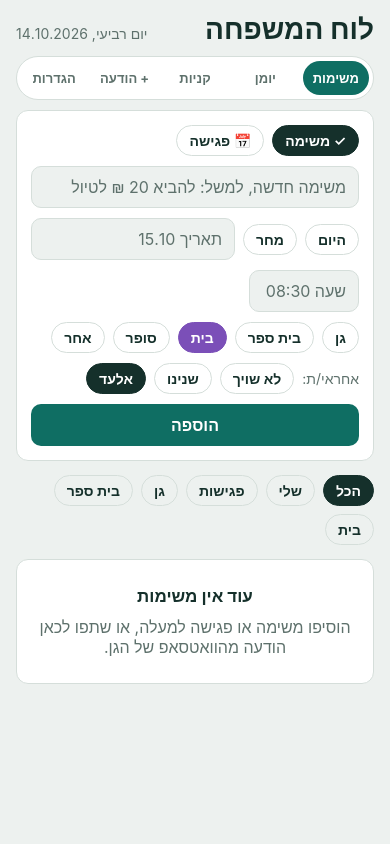
Test: tasks tab: adding › bad date or time is refused with a message
The width and height of the screenshot is (390, 844).
expect the text "+ הודעה" is shown: met, box top-left (100, 70), bottom-right (149, 86)
Type "משהו" into the field with placeholder "משימה חדשה, למשל: להביא 20 ₪ לטיול" at point(195, 187), box top-left (31, 166), bottom-right (359, 208)
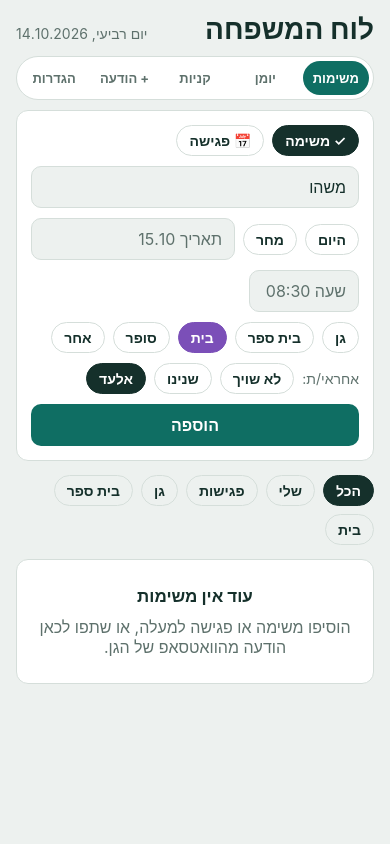
Type "מחרתיים" into the field with placeholder "תאריך 15.10" at point(133, 239), box top-left (31, 218), bottom-right (235, 260)
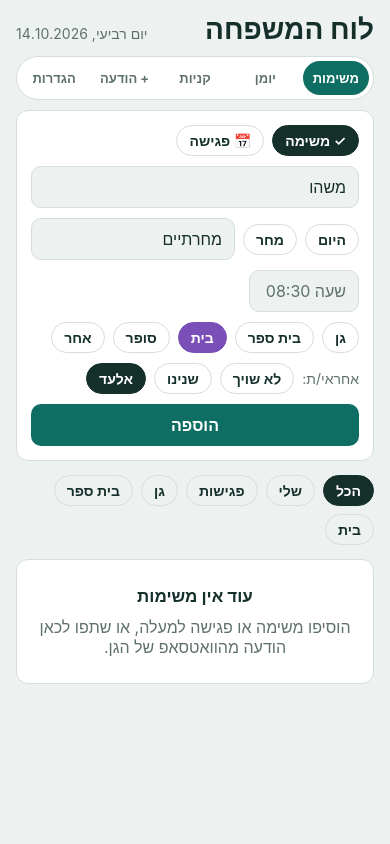
Click the button "הוספה" at point(195, 425), box top-left (31, 404), bottom-right (359, 446)
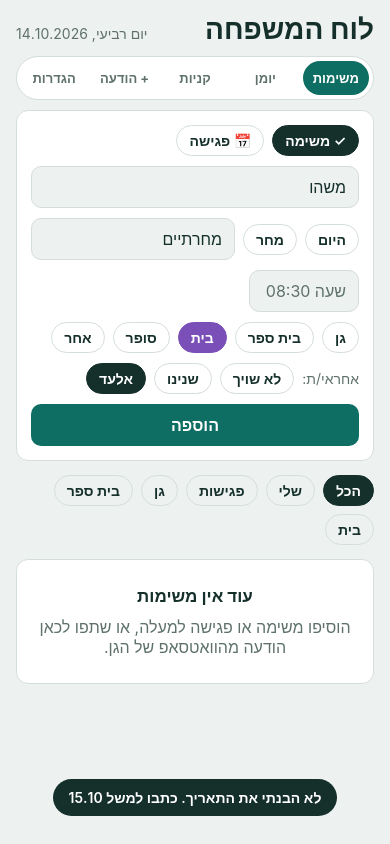
expect the text "לא הבנתי את התאריך. כתבו למשל 15.10" is shown: met, box top-left (69, 789), bottom-right (321, 806)
Clear the field with placeholder "תאריך 15.10" next to "מחר" at point(133, 239), box top-left (31, 218), bottom-right (235, 260)
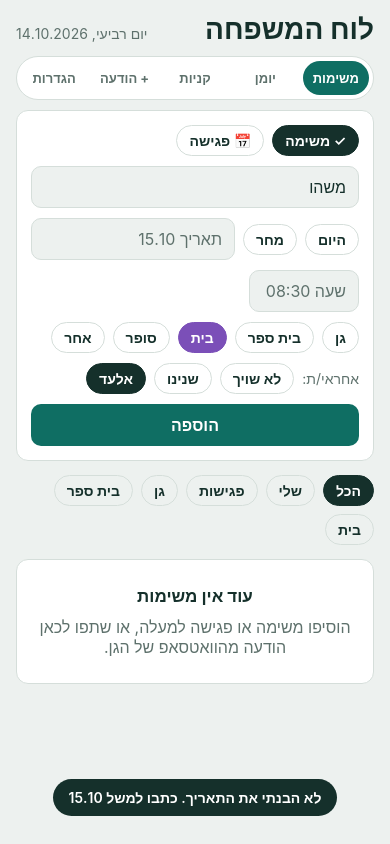
Type "8" into the field with placeholder "שעה 08:30" at point(304, 291), box top-left (249, 270), bottom-right (359, 312)
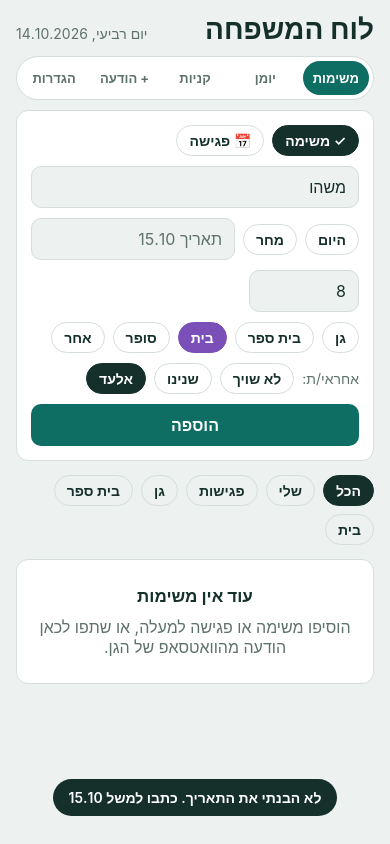
Click the button "הוספה" at point(195, 425), box top-left (31, 404), bottom-right (359, 446)
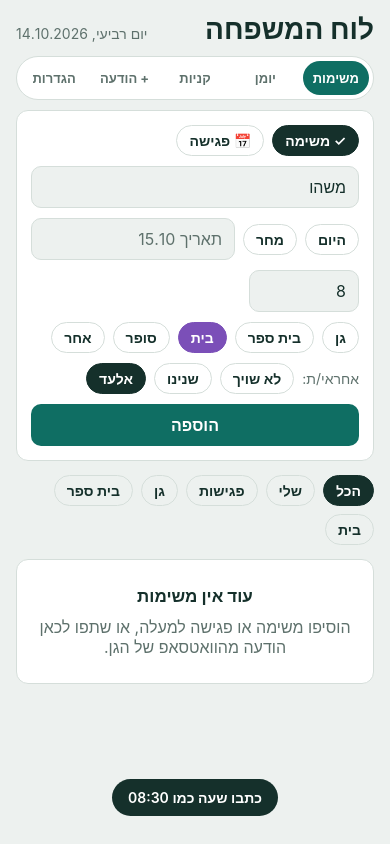
expect the text "כתבו שעה כמו 08:30" is shown: met, box top-left (128, 789), bottom-right (262, 806)
